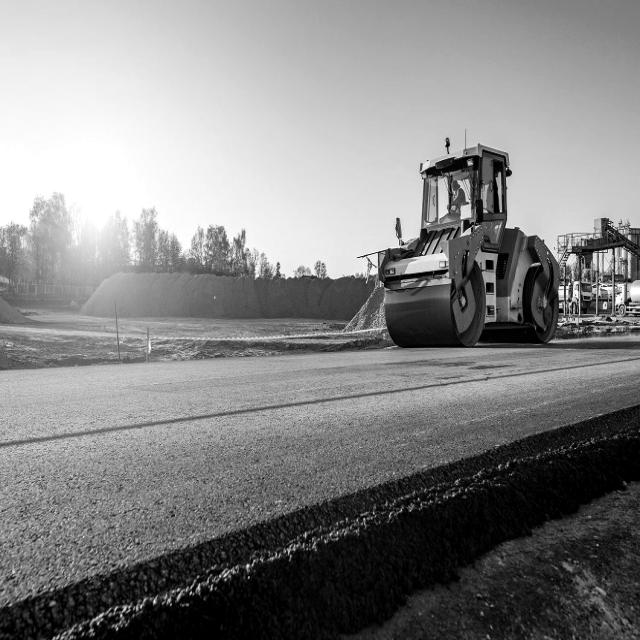cleat: (24, 183, 640, 589)
